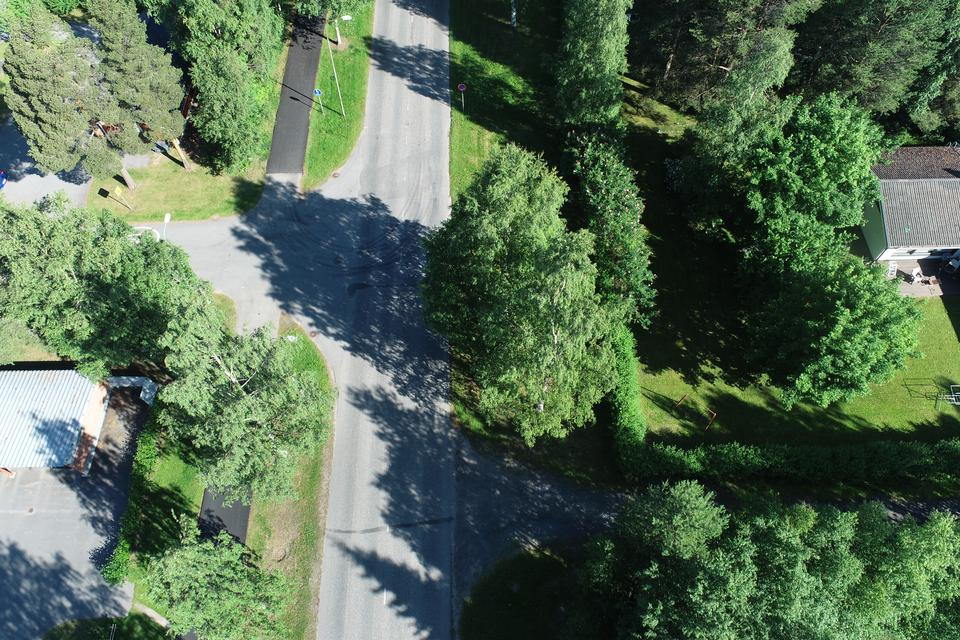intersection: (203, 170, 482, 362), (284, 416, 541, 603)
